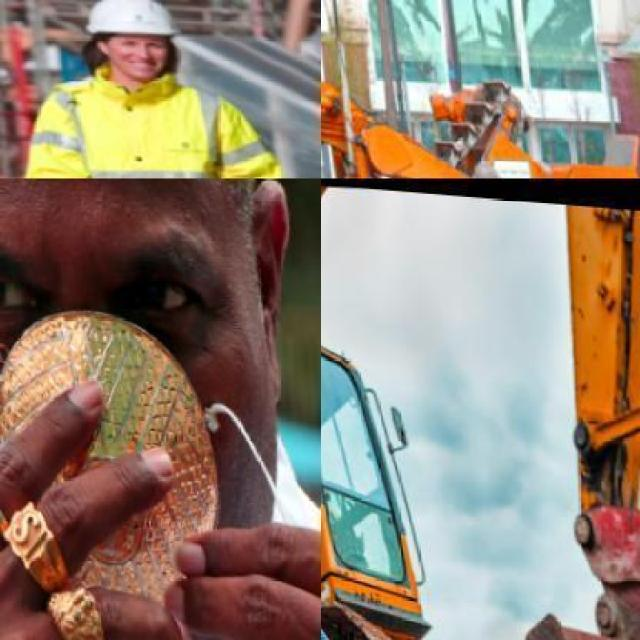Vest: (0, 46, 305, 177)
